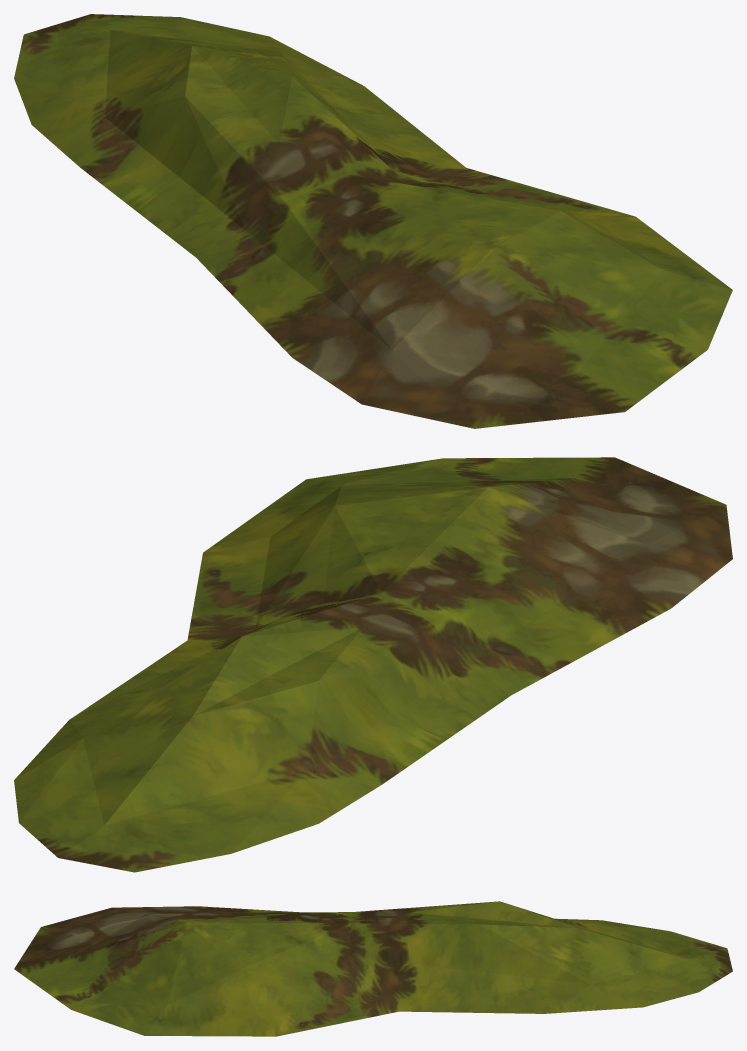
File: small_hill05.fbx
3 renders of one model, top to bottom at view 1: azimuth 30°, elevation 25°; view 2: azimuth 150°, elevation 25°; view 3: azimuth 270°, elevation 25°, orthographic. The views are drawn at different scales.
Visible parts, largest first — view 1: obj0.025; view 2: obj0.025; view 3: obj0.025.
Boxes of the visible parts, bbox=[...] form: obj0.025: bbox=[14, 14, 732, 428]; obj0.025: bbox=[14, 457, 732, 872]; obj0.025: bbox=[14, 901, 732, 1036].
Bounding box in the file's own units: 4.96 × 0.892 × 11.56.
